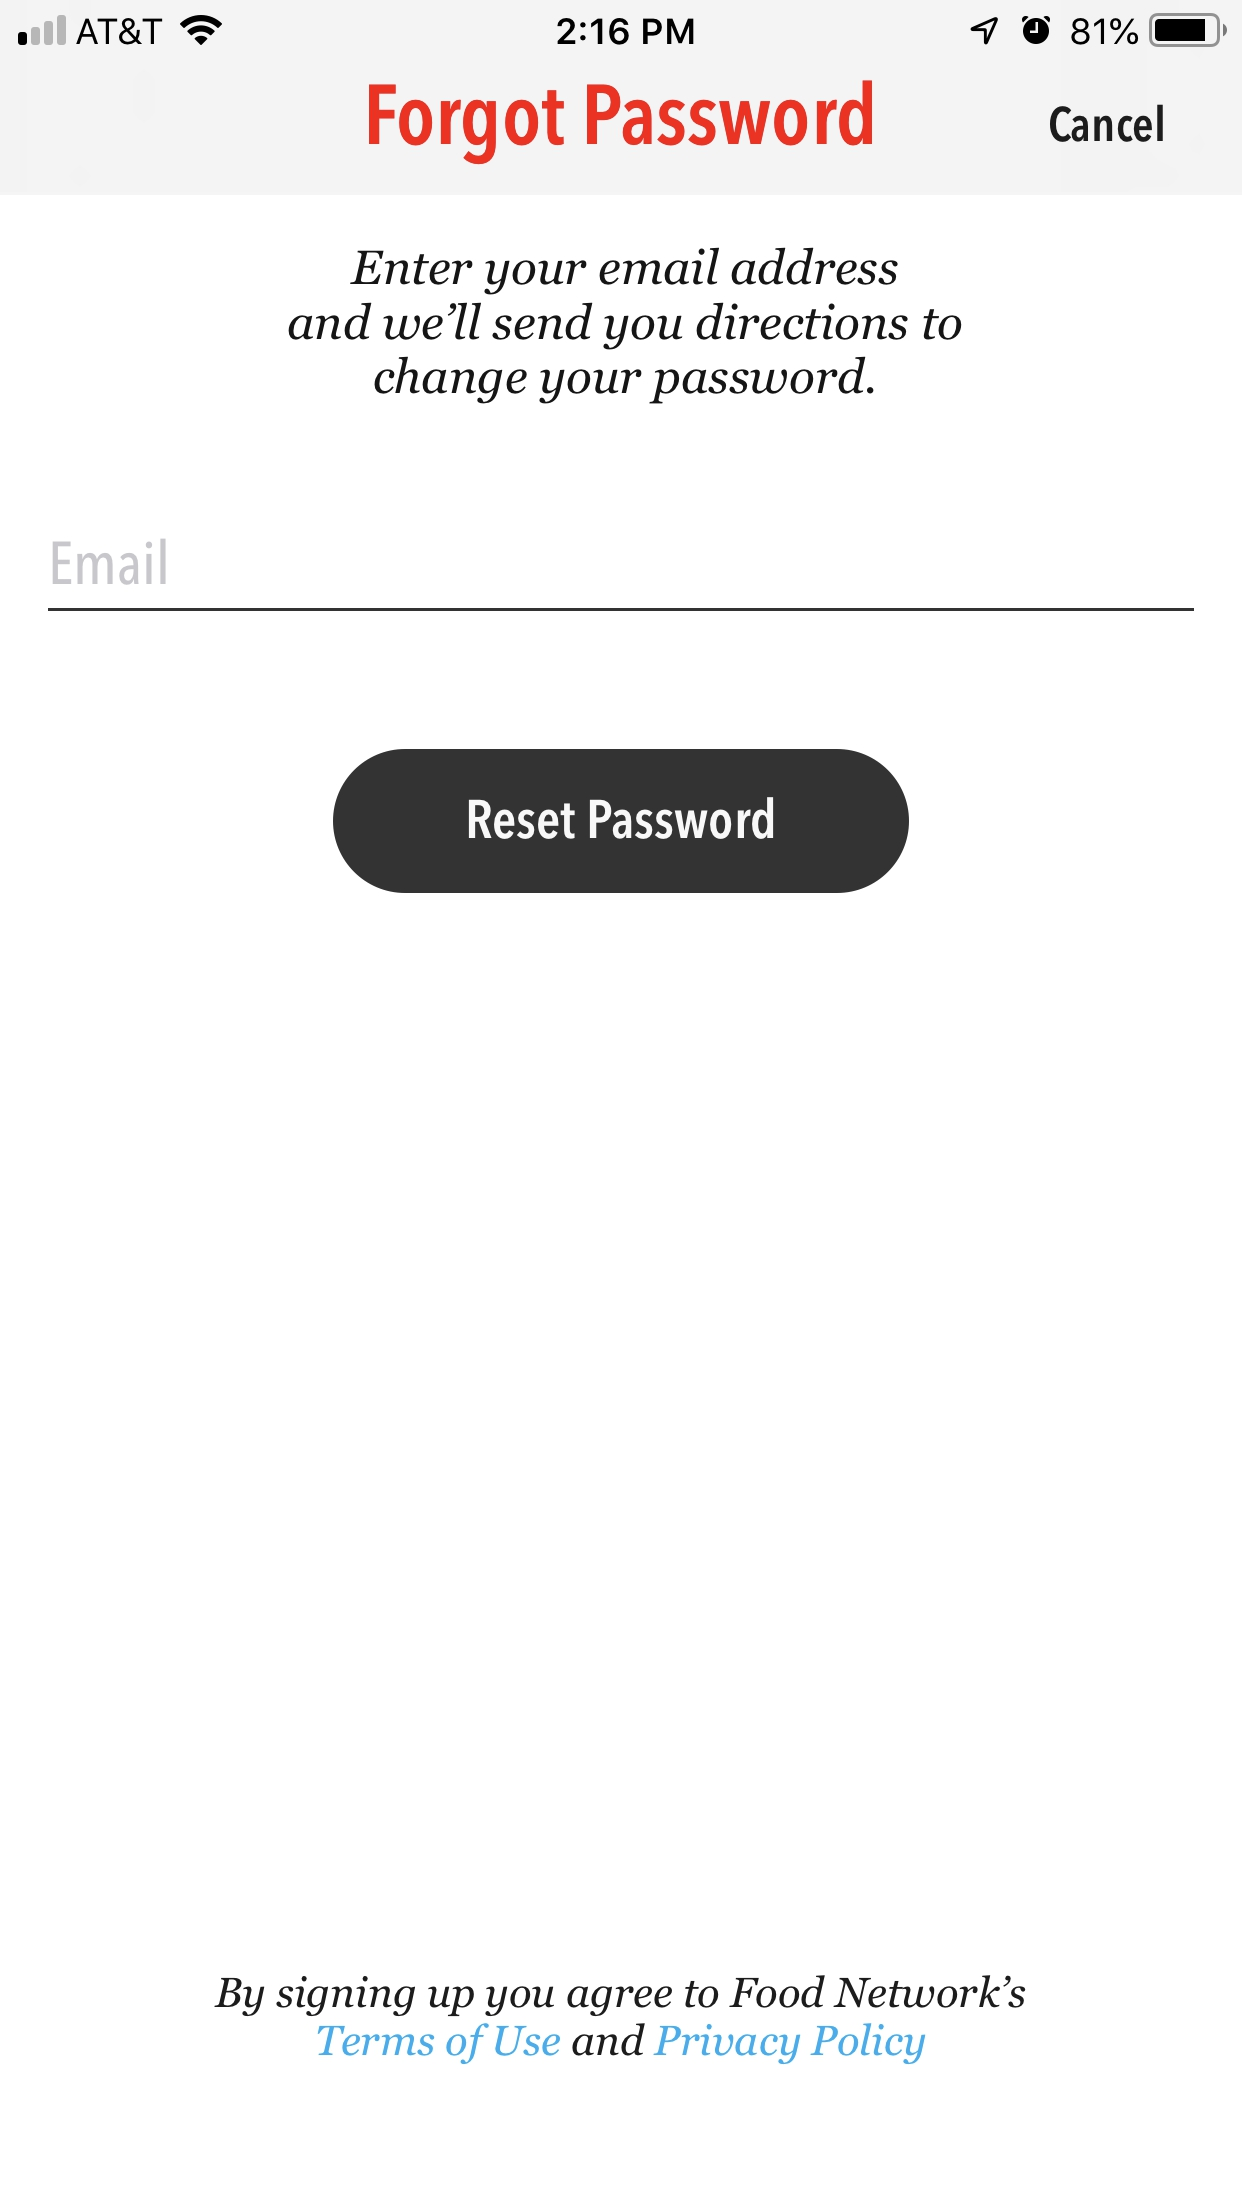EditText: (49, 538, 1195, 613)
Text: (288, 247, 961, 405), (214, 1974, 1027, 2065), (369, 80, 873, 165), (53, 538, 168, 587), (1049, 105, 1165, 144)
TextButton: (334, 748, 910, 895)
UpperTaskBar: (2, 2, 1242, 49)
